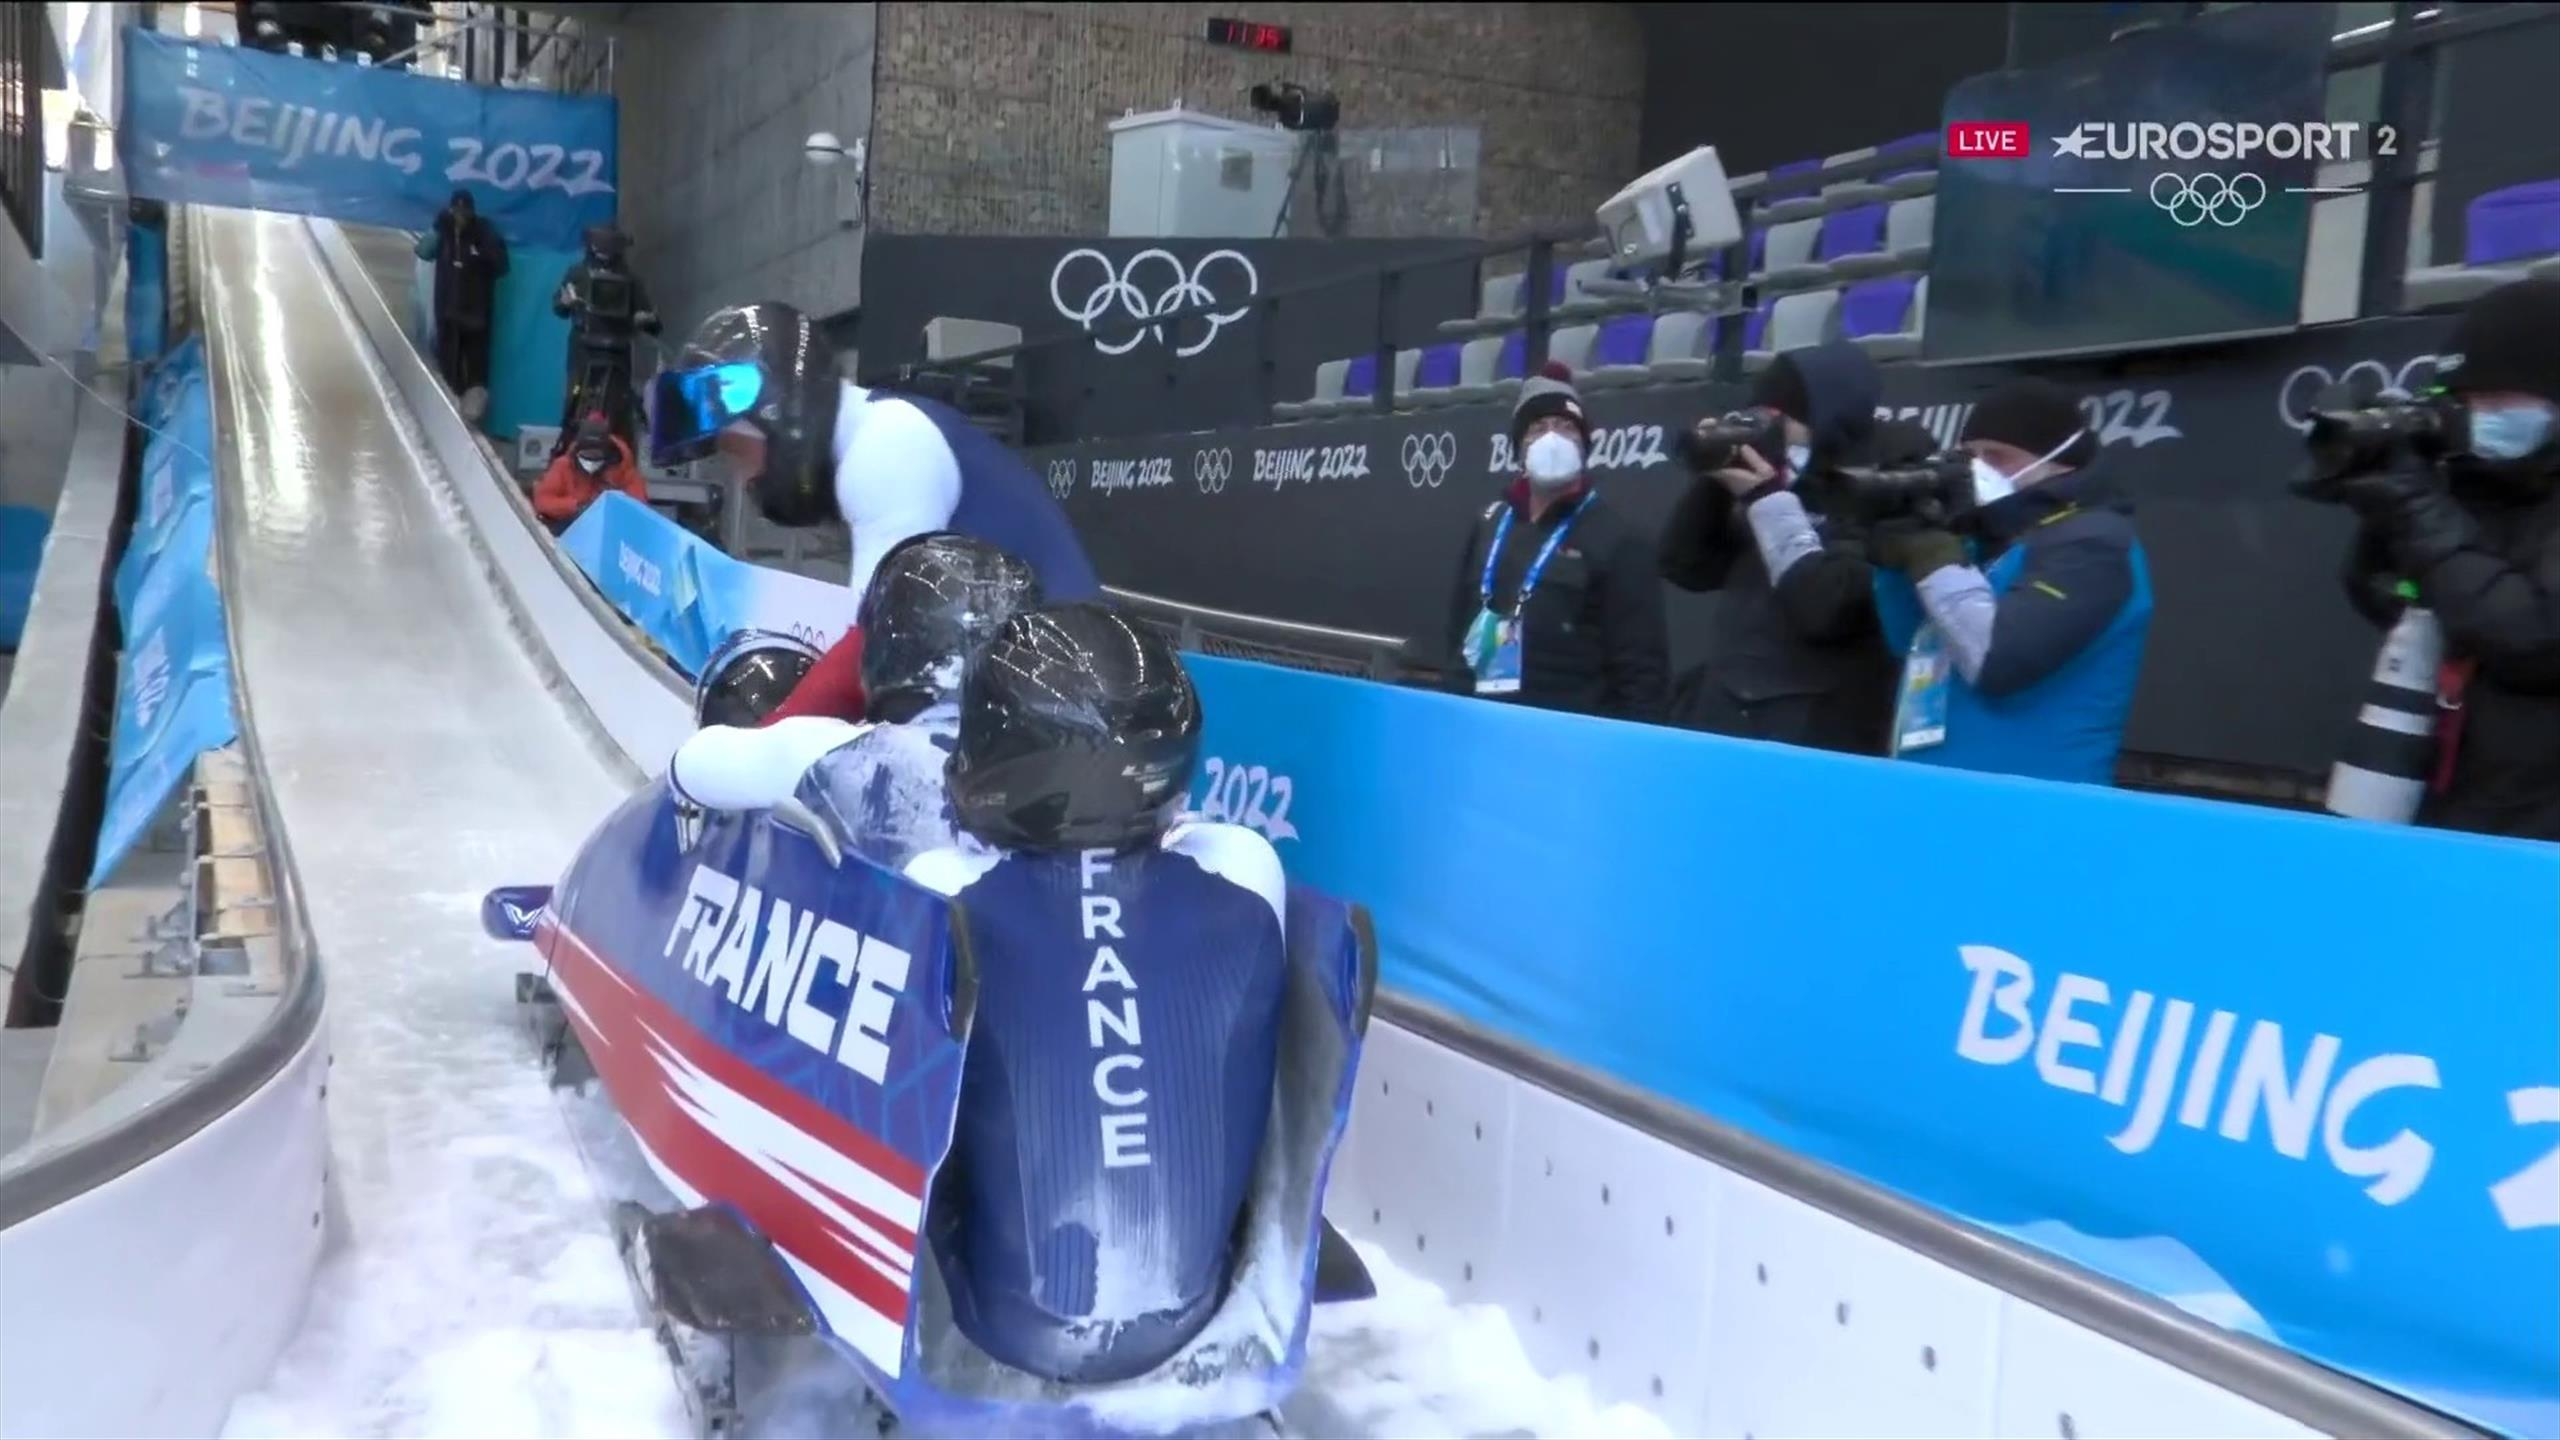Bobsleigh: (476, 793, 1385, 1426)
